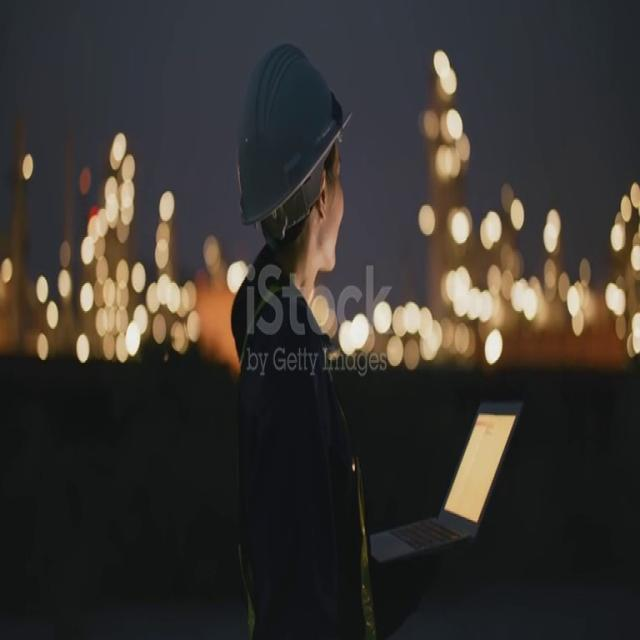capacete: (218, 34, 355, 243)
